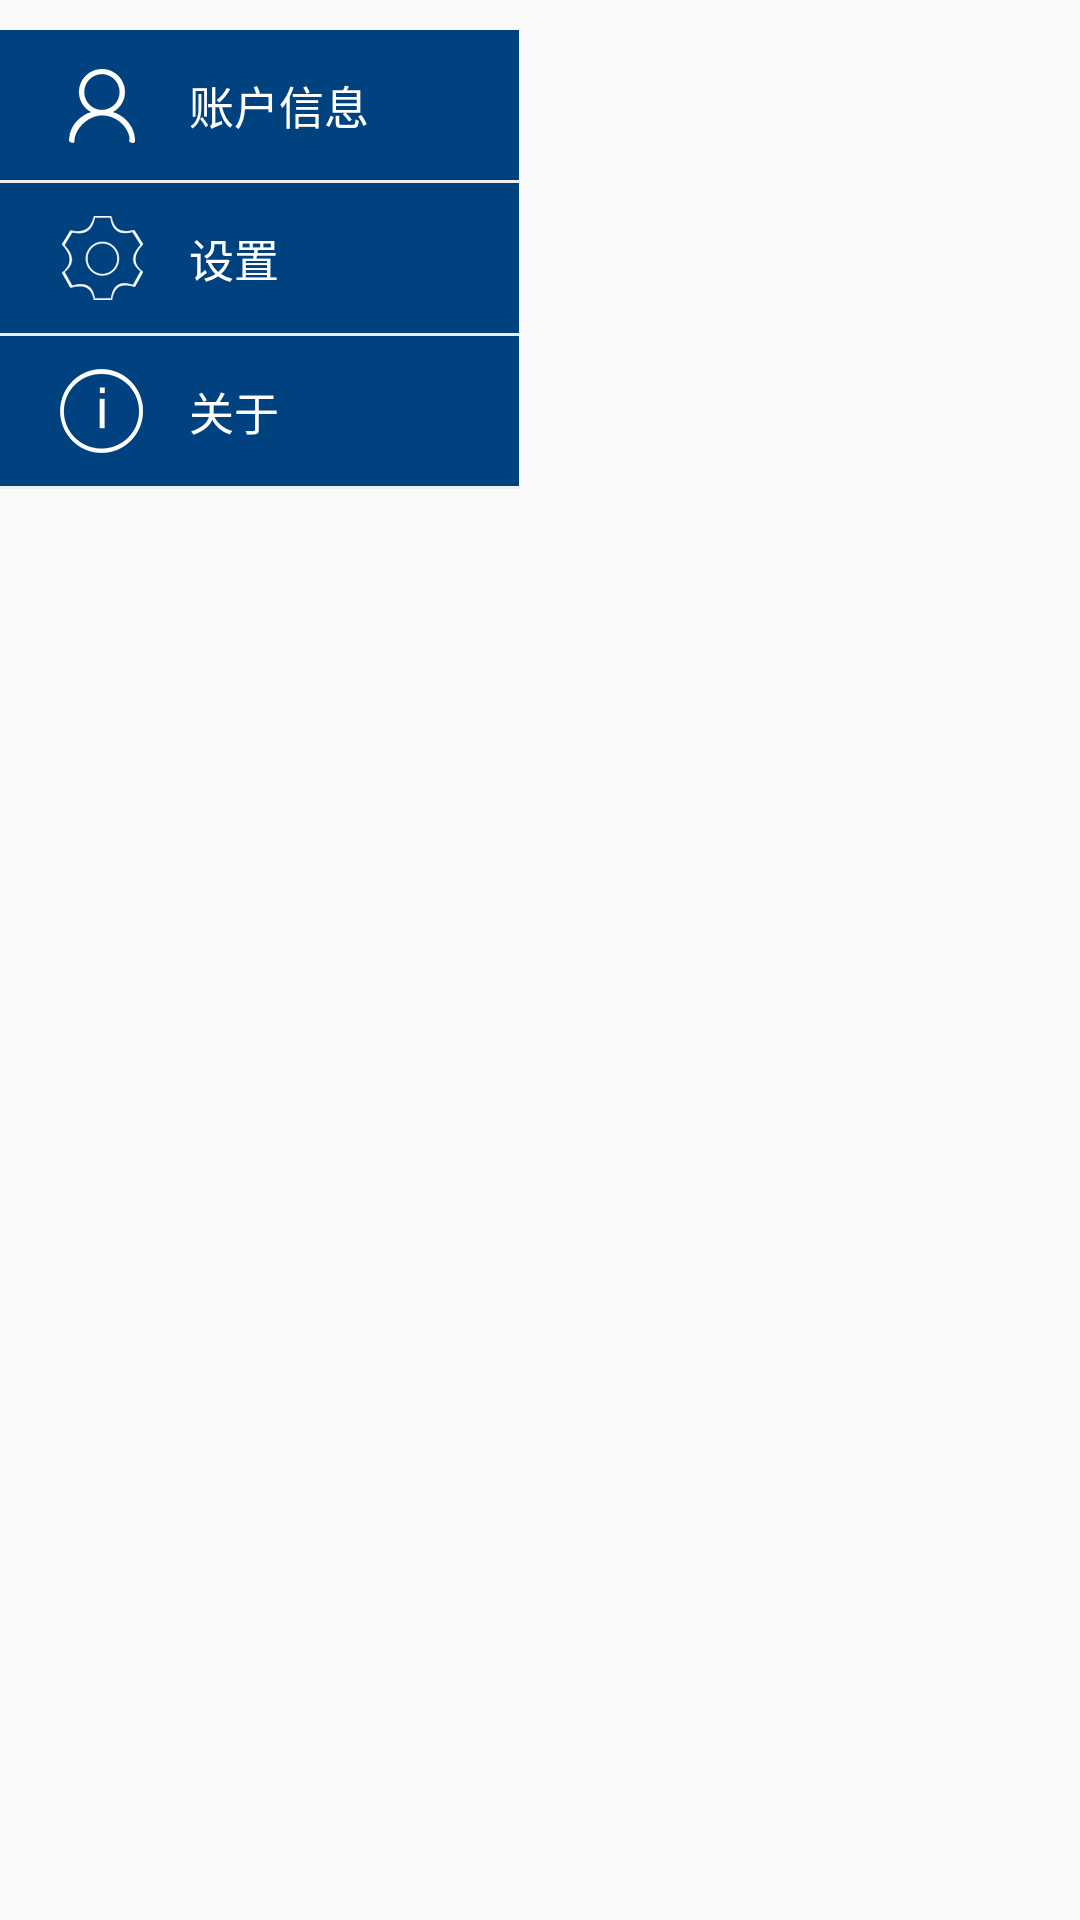

Icons on this 1080 × 1920 Android screen, each with its box as (x1, y1, x2, y2):
guanyu: (60, 369, 143, 453)
set bai: (62, 216, 143, 300)
zhanghu: (69, 69, 135, 143)
